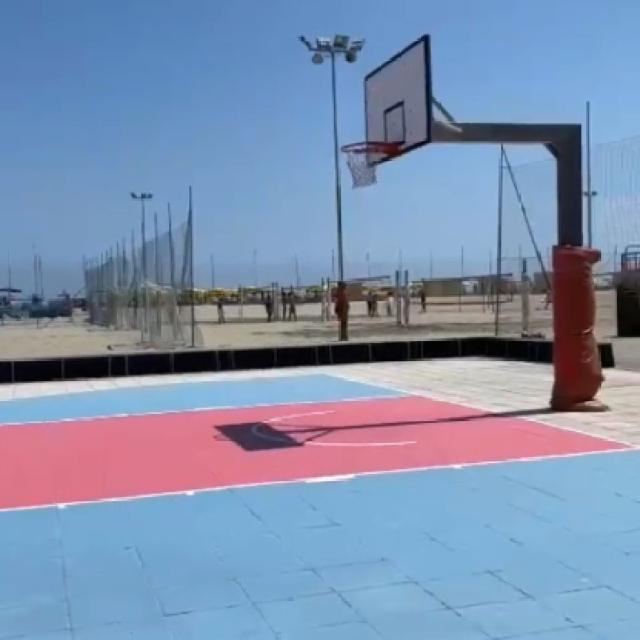rim: (340, 140, 382, 188)
